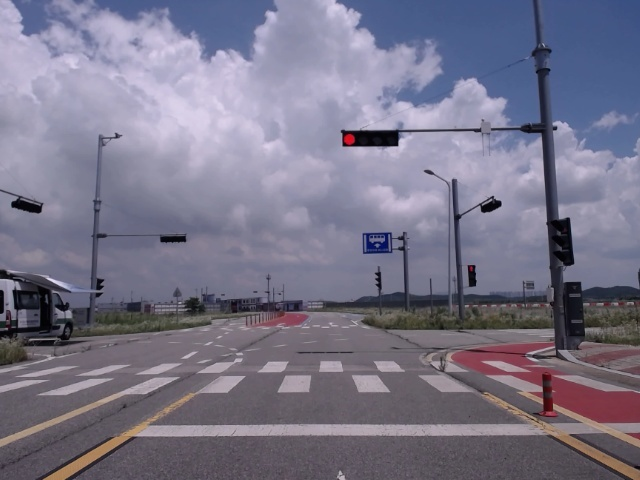red_4: (342, 132, 399, 147)
